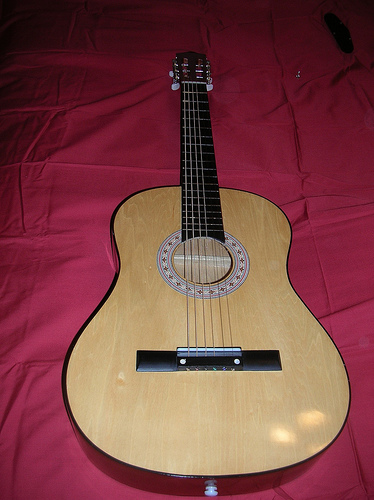guitar: (56, 48, 354, 497)
